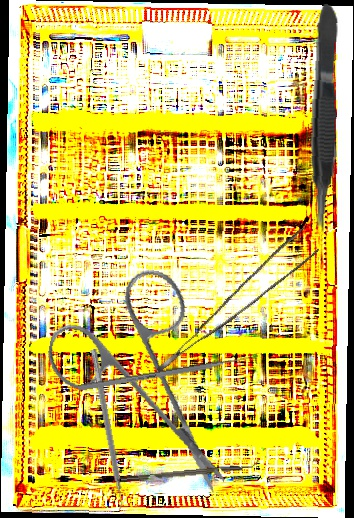Chopper: (119, 457, 261, 483)
Iris Scissors: (26, 252, 265, 494)
Pusher: (77, 353, 261, 392)
Spatula Surgical: (83, 348, 128, 512)
Tissue Forceps: (137, 227, 326, 372), (305, 3, 345, 234)
